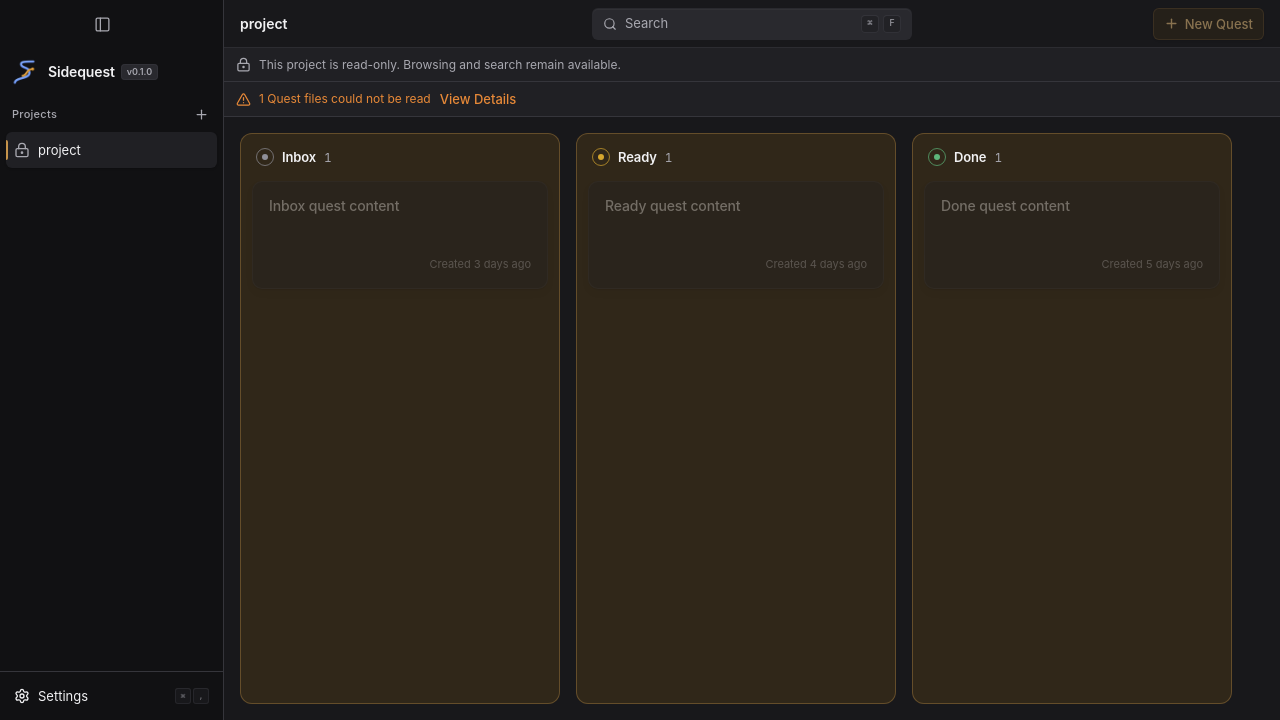
it: App › shows_read_only_and_corrupt_file_banners_without_hiding_valid_quests
The image size is (1280, 720).
Check: the text "project is read-only" is shown, box [259,56,621,72]
Check: the text "Inbox quest content" is shown, box [269,197,399,214]
What coordinates should you click on to do the following:
click the button "View Details"
I would click on:
 (478, 99)
Its box is [439,89,517,109].
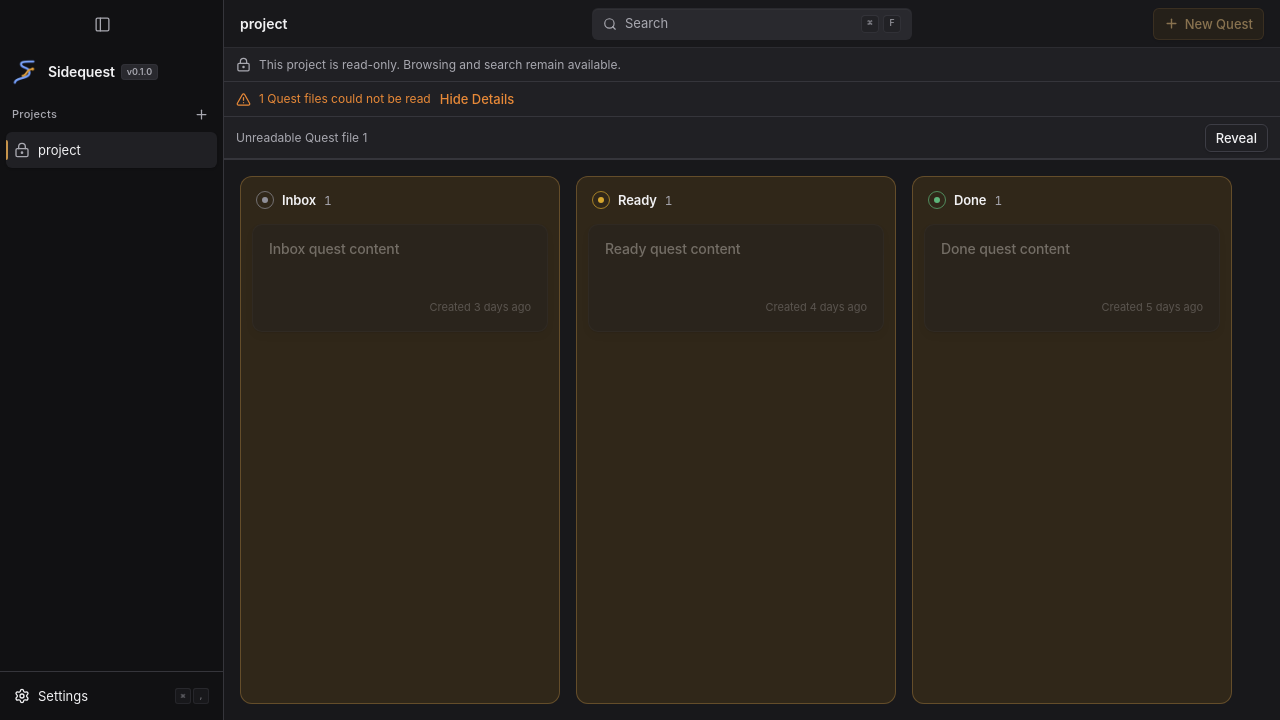
Check: the button "New Quest" is disabled, box [1153,8,1264,40]
Check: the text "Unreadable Quest file 1" is shown, box [236,130,367,146]
What coordinates should you click on to do the following:
click the button "Inbox quest content"
I would click on:
 (334, 248)
Its box is [252,224,548,332].
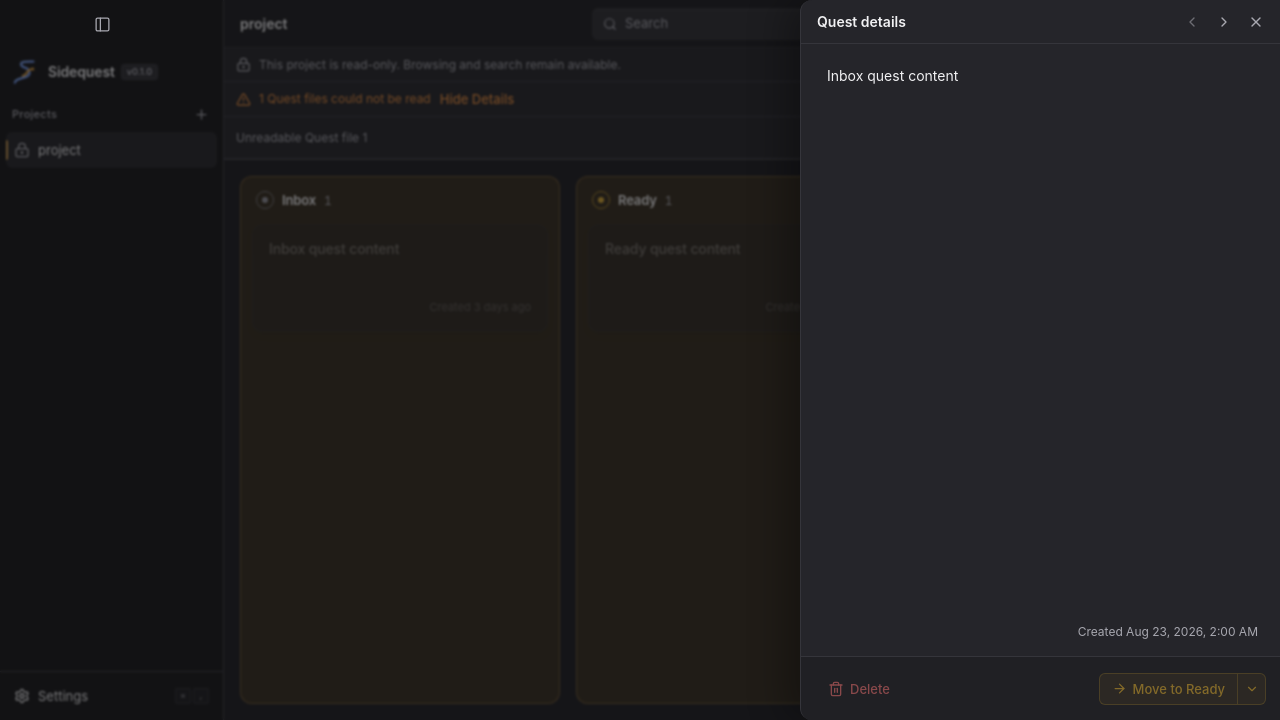
Check: the button "Delete" is disabled, box [815,672,903,704]
Check: the button "Move to Ready" is disabled, box [1099,672,1238,704]
